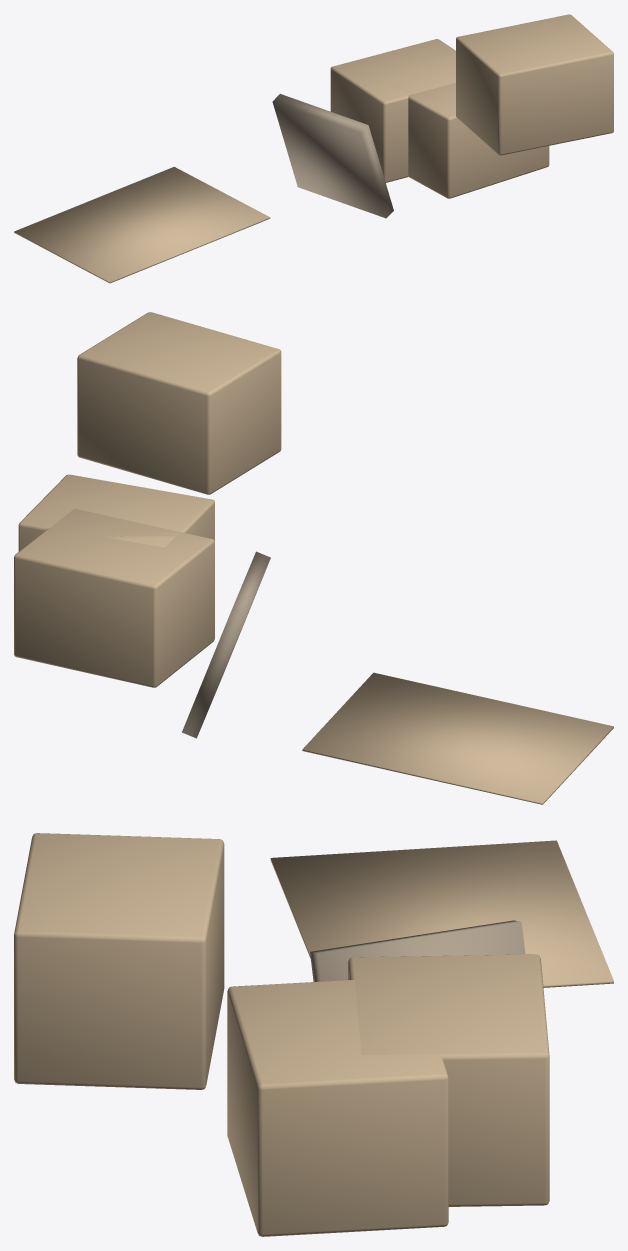
Rendered from res_chair.glb.
3 views of the same model, one above another, from view 1: azimuth 30°, elevation 25°; view 2: azimuth 150°, elevation 25°; view 3: azimuth 270°, elevation 25° (orthographic). The views are drawn at different scales.
Parts seen in each view (by area): view 1: res_chair; view 2: res_chair; view 3: res_chair.
Boxes of the visible parts, x1,y1,x2,y2 form: res_chair: [14, 14, 613, 283]; res_chair: [14, 312, 613, 804]; res_chair: [14, 833, 613, 1236].
Bounding box in the file's own units: 2.08 × 0.8345 × 1.24.
